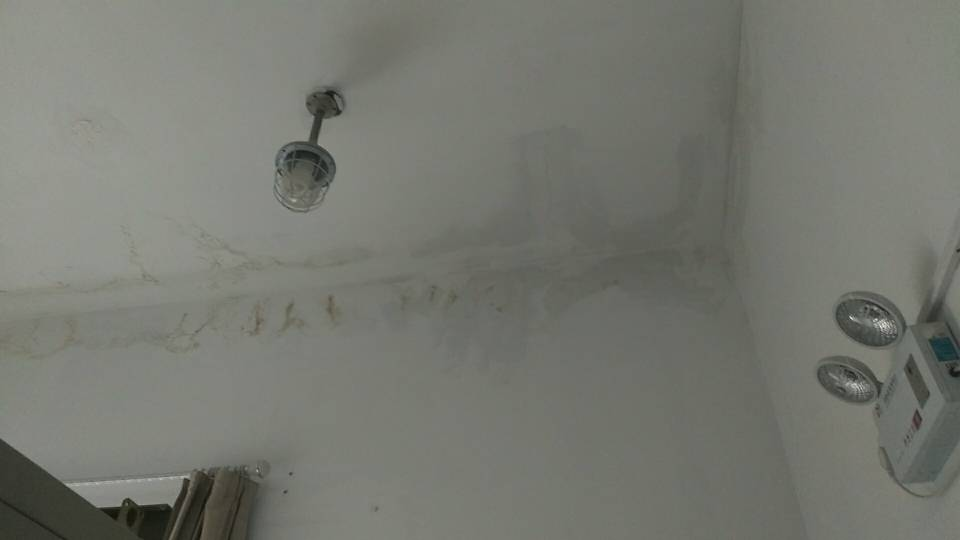dog: (298, 115, 434, 238)
